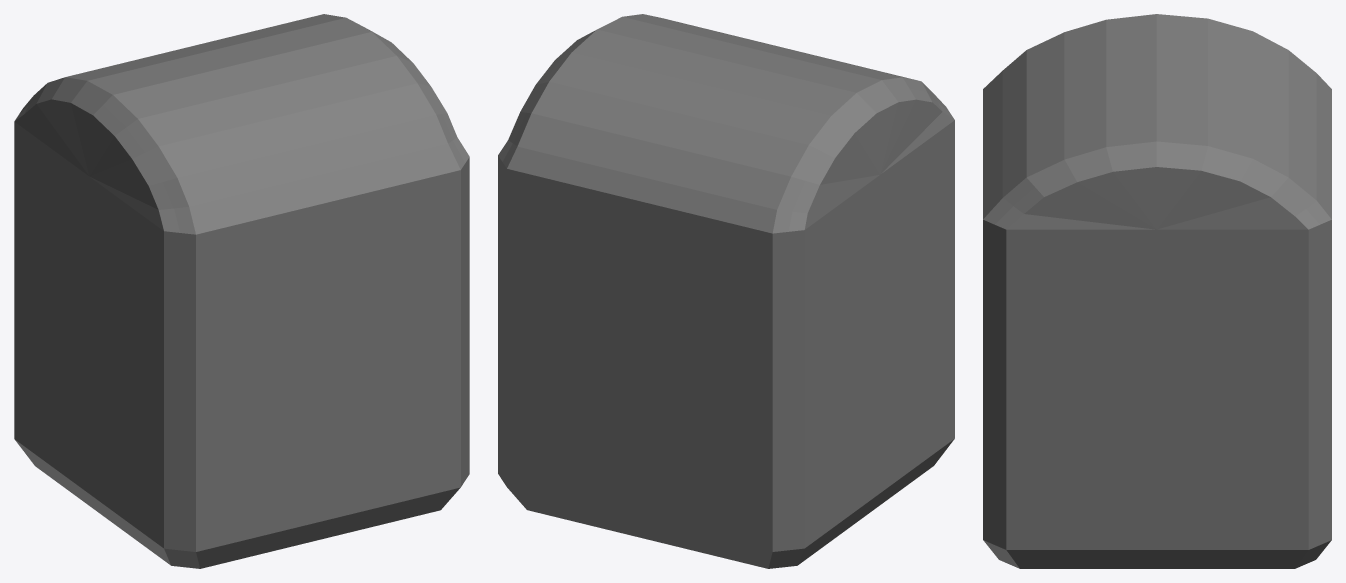
The model's file is lowleg.obj.
3 renders of one model, left to right at view 1: azimuth 30°, elevation 25°; view 2: azimuth 150°, elevation 25°; view 3: azimuth 270°, elevation 25°, orthographic.
Parts seen in each view (by area): view 1: Rig1; view 2: Rig1; view 3: Rig1.
Boxes of the visible parts, x1,y1,x2,y2 form: Rig1: (14, 14, 469, 568); Rig1: (498, 14, 954, 568); Rig1: (983, 14, 1331, 568).
Size of the model in its own units: 0.9928 by 1.3 by 0.9728.
Materials: 1 (1 with a texture image).
